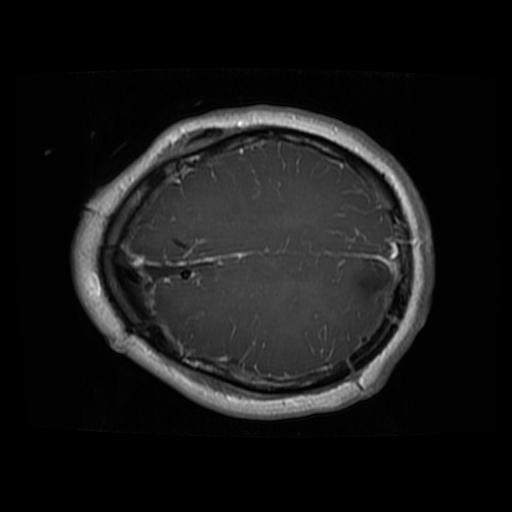glioma: (355, 257, 392, 298)
